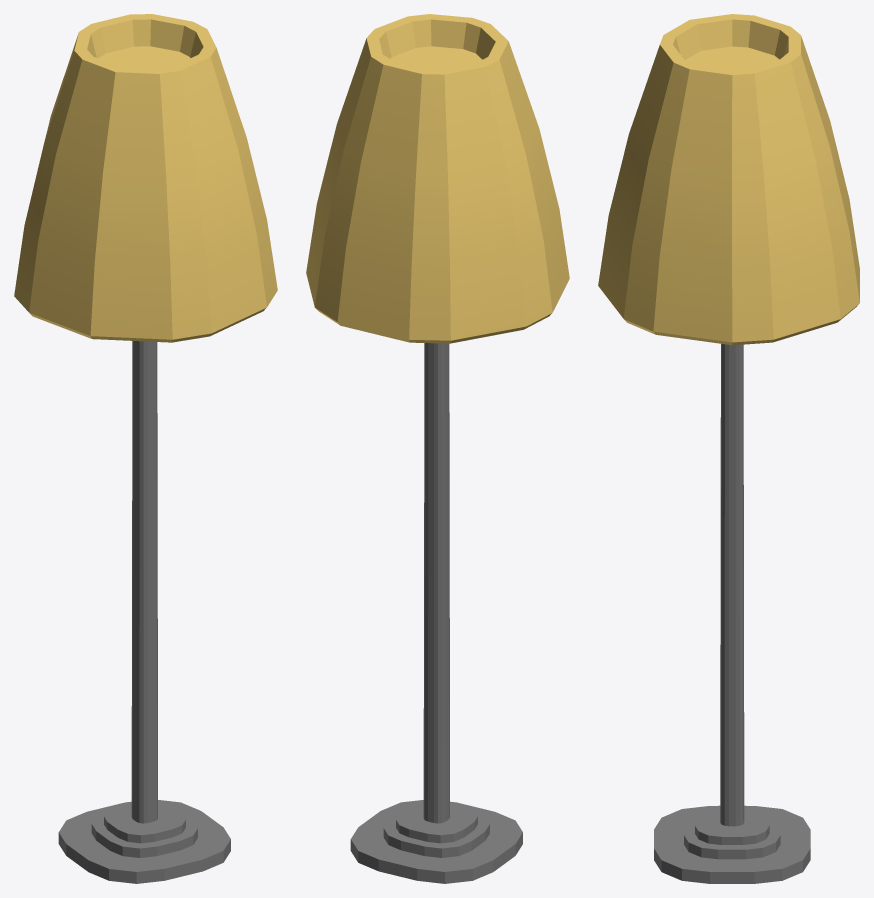
File: Light_8.fbx
3 views of the same model, side by side, from view 1: azimuth 30°, elevation 25°; view 2: azimuth 150°, elevation 25°; view 3: azimuth 270°, elevation 25° (orthographic).
Parts seen in each view (by area): view 1: Light_8; view 2: Light_8; view 3: Light_8.
Boxes of the visible parts, x1,y1,x2,y2 form: Light_8: [14, 14, 277, 883]; Light_8: [306, 14, 569, 883]; Light_8: [598, 14, 859, 883].
Bounding box in the file's own units: 0.4687 × 1.55 × 0.4572.
